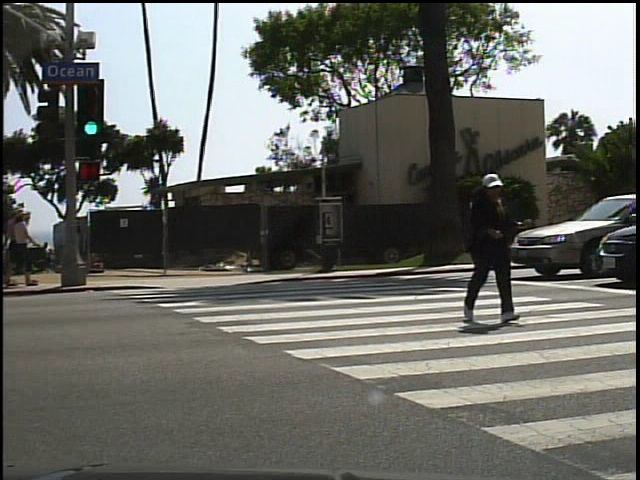person: (449, 163, 527, 337)
